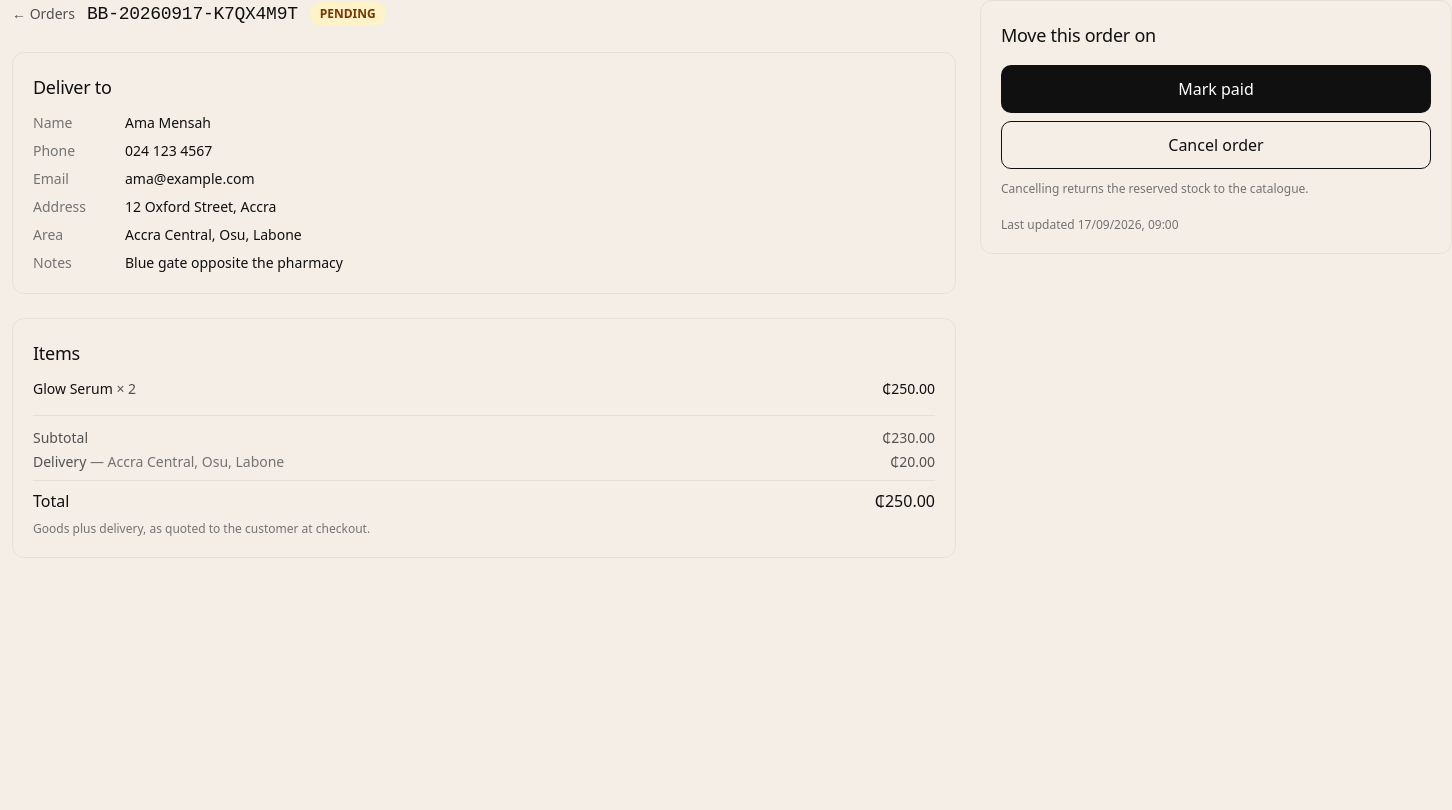
OrderDetail › surfaces a refused transition instead of pretending it worked
This screenshot has width=1452, height=810.
Click the button "Mark paid": [1216, 89] box x1=1001 y1=65 x2=1431 y2=113
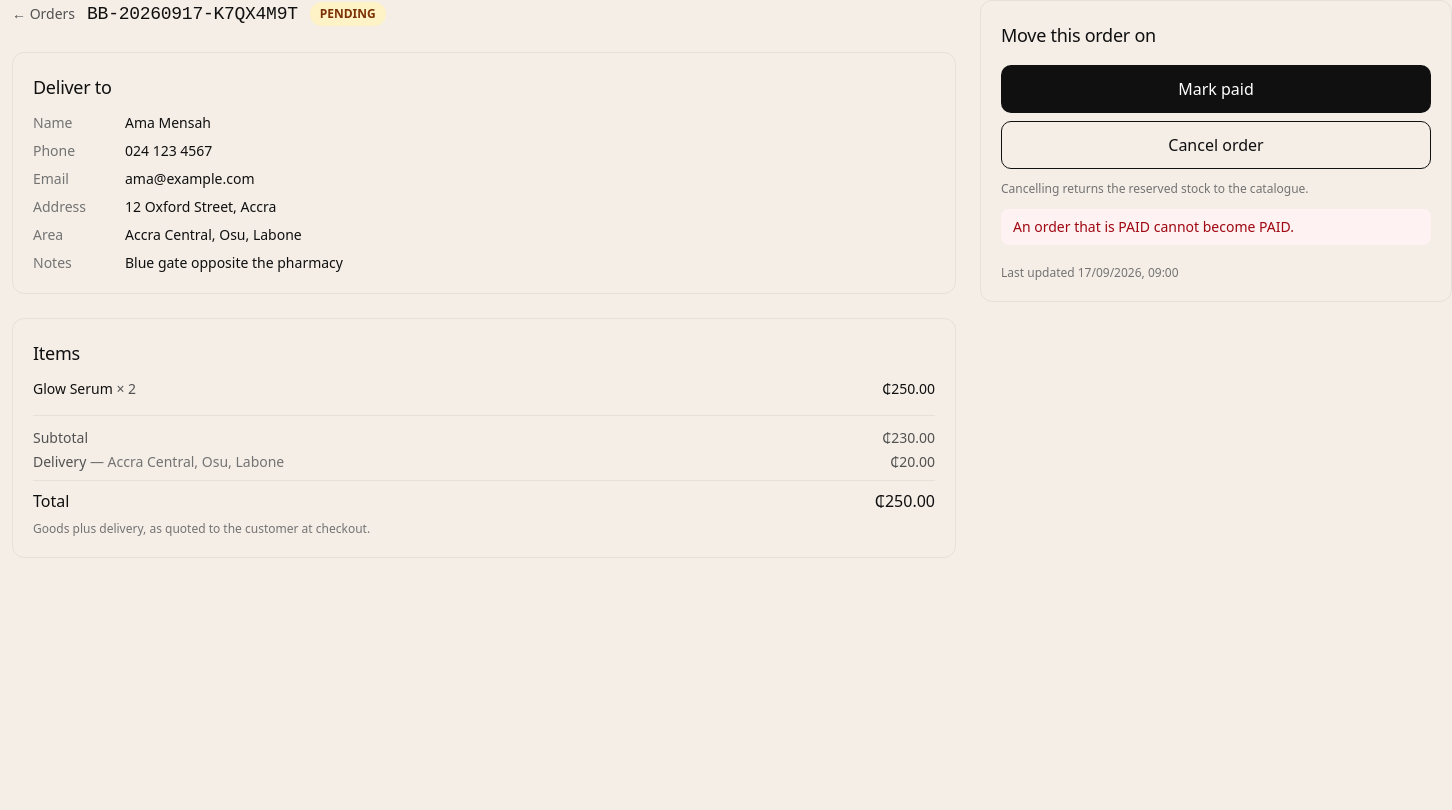
Result: the message shows "cannot become" at x1=1013 y1=217 x2=1294 y2=236
